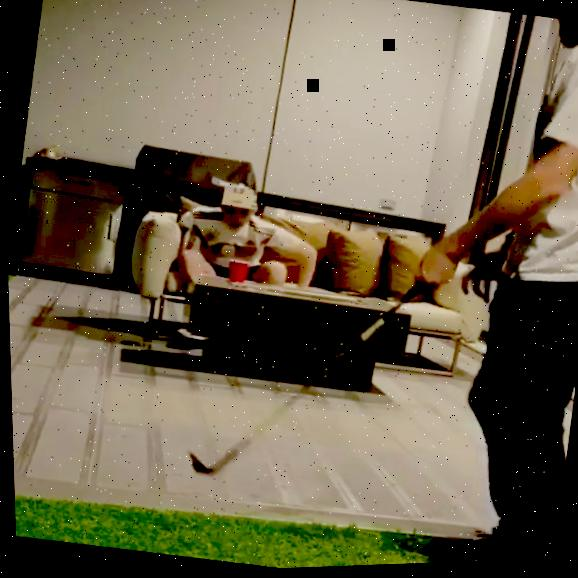ClubHead: (183, 452, 210, 476)
